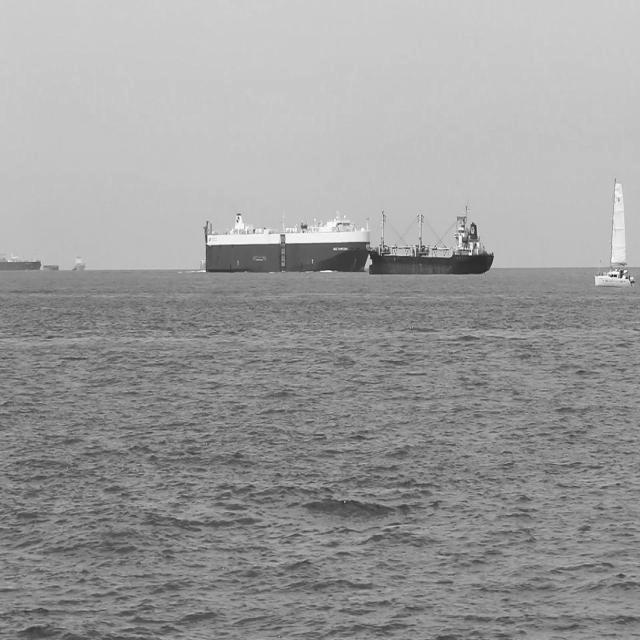ship: (201, 206, 372, 278), (362, 196, 497, 280), (592, 171, 638, 290), (0, 247, 44, 274), (68, 250, 86, 274)
